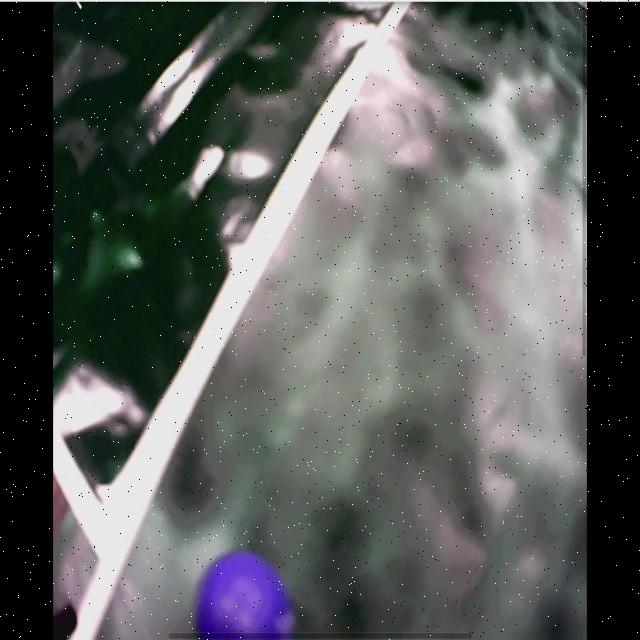ball: (192, 555, 289, 640)
